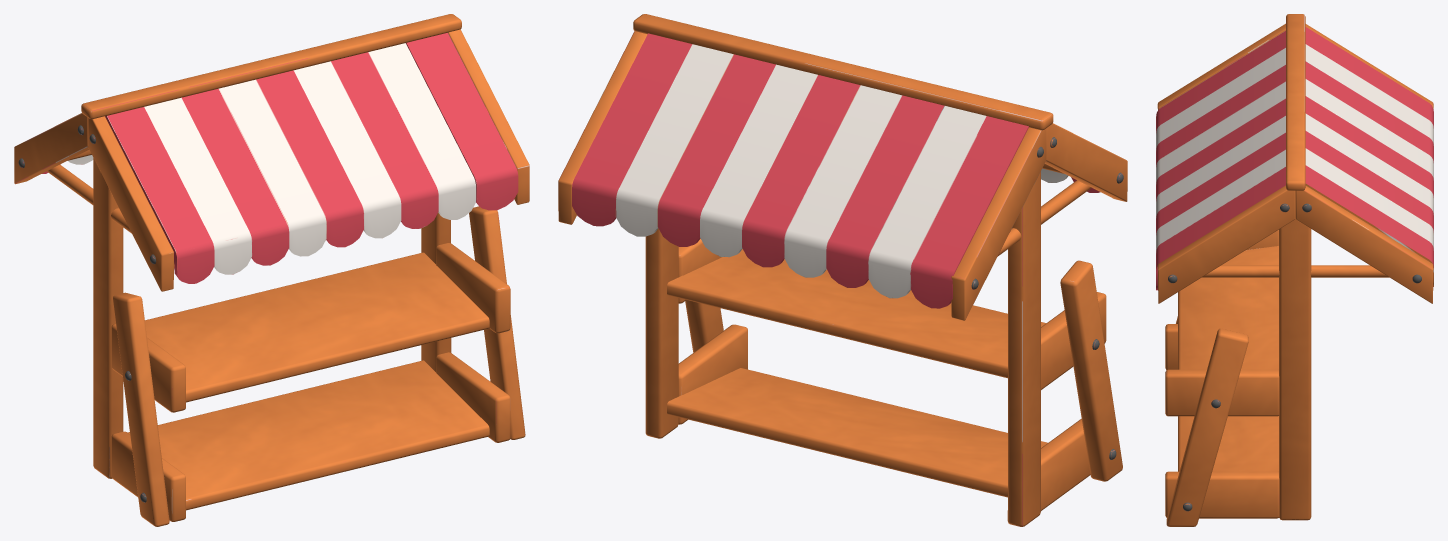
File: Stole.fbx
3 views of the same model, side by side, from view 1: azimuth 30°, elevation 25°; view 2: azimuth 150°, elevation 25°; view 3: azimuth 270°, elevation 25° (orthographic). The views are drawn at different scales.
Parts seen in each view (by area): view 1: Cube.001, Cube.002, Cube.003, Cube.006; view 2: Cube.001, Cube.003, Cube.006, Cube.002; view 3: Cube.001, Cube.006, Cube.002, Cube.003.
Part boxes in pixels (box(x1,y1,x2,y2)): Cube.001: box(14, 14, 529, 291); Cube.002: box(111, 243, 510, 412); Cube.003: box(111, 352, 510, 521); Cube.006: box(93, 158, 525, 526); Cube.001: box(558, 14, 1127, 320); Cube.003: box(667, 324, 1090, 510); Cube.006: box(645, 171, 1122, 526); Cube.002: box(667, 238, 1106, 389); Cube.001: box(1156, 14, 1433, 303); Cube.006: box(1166, 218, 1311, 526); Cube.002: box(1165, 230, 1279, 416); Cube.003: box(1165, 324, 1279, 518).
Bounding box in the file's own units: 3551 × 3338 × 2428.
1 material, 1 textured.
